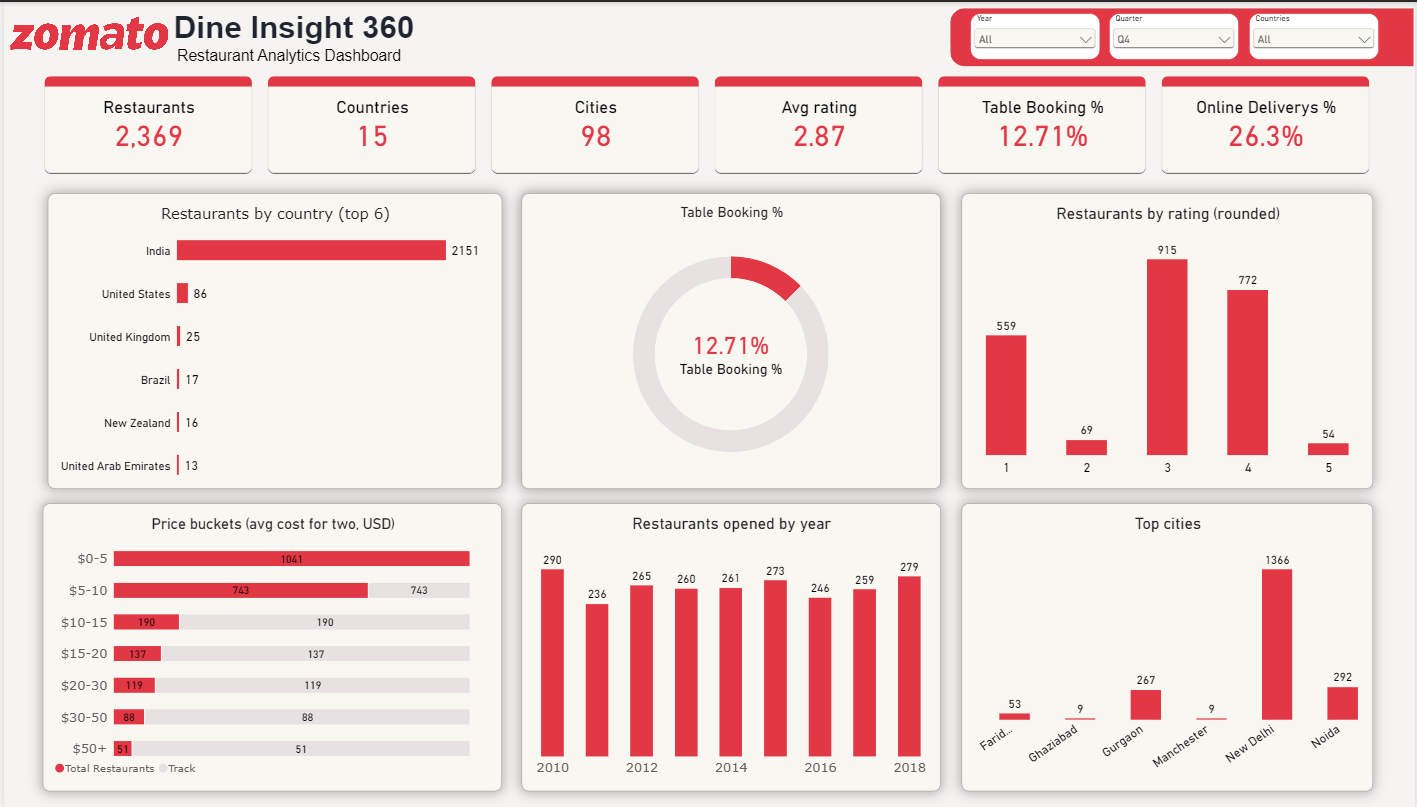

This screenshot's page, from the dashboard's own definition file:
{"tool":"powerbi","page":{"name":"HOME","canvas":[1920,1100],"ordinal":0},"visuals":[{"type":"image","box":[9,6,215,71],"z":0,"group":"g1"},{"type":"shape","box":[1288.2,8.2,631.8,79.1],"z":0},{"type":"group","id":"g1","title":"Group 1","box":[9,6,559,91],"z":1000},{"type":"textbox","box":[218,60,350,37],"z":1000,"group":"g1"},{"type":"textbox","box":[223.7,8.6,343.8,67.7],"z":2000,"group":"g1"},{"type":"clusteredBarChart","title":"Restaurants by country (top 6)","fields":{"Category":["Country.Countryname"],"Y":["CountNonNull(Main.RestaurantID)"]},"box":[59,260,618,402],"z":2000},{"type":"columnChart","title":"Restaurants opened by year","fields":{"Category":["Main.Opening Year"],"Y":["CountNonNull(Main.RestaurantID)"]},"box":[704,682,570,392],"z":3000},{"type":"columnChart","title":"Restaurants by rating (rounded)","fields":{"Category":["Main.Rating"],"Y":["Count(Main.RestaurantID)"]},"box":[1302,260,560,402],"z":4000},{"type":"barChart","title":"Price buckets (avg cost for two, USD)","fields":{"Category":["Main.Price_Bucket"],"Y":["Main.Total Restaurants","Main.Track"]},"box":[52,682,625,392],"z":5000},{"type":"donutChart","title":"Table Booking % ","fields":{"Y":["Main.Table Booking %","Calendar.Table Booking Rest"]},"box":[704,260,570,402],"z":6000},{"type":"columnChart","title":"Top cities","fields":{"Category":["Main.City"],"Y":["Count(Main.RestaurantID)"]},"box":[1302,682,560,392],"z":7000},{"type":"slicer","fields":{"Values":["Calendar.Year"]},"box":[1315.5,14.5,176.5,62.9],"z":8000},{"type":"cardVisual","fields":{"Data":["Main.Total Restaurants","Count(Country.Countryname)","Count(Main.City)","Avg(Main.Rating)","Main.Table Booking %","Main.Online Deliverys %"]},"box":[52,98,1810,136],"z":9000},{"type":"slicer","fields":{"Values":["Calendar.Quarter"]},"box":[1502.7,15.5,176.5,62.9],"z":9001},{"type":"slicer","fields":{"Values":["Country.Countryname"]},"box":[1694.5,14.5,176.5,62.9],"z":9002}]}

Visuals, with their boxes in screenshot pixels (x1, y1, x2, y2), scaled from the page's 1920x1100 canvas onto the 1417x807 screenshot:
image: pyautogui.locateOnScreen(7, 4, 165, 56)
shape: pyautogui.locateOnScreen(951, 6, 1416, 64)
"Group 1" group: pyautogui.locateOnScreen(7, 4, 419, 71)
textbox: pyautogui.locateOnScreen(161, 44, 419, 71)
textbox: pyautogui.locateOnScreen(165, 6, 419, 56)
"Restaurants by country (top 6)" clusteredBarChart: pyautogui.locateOnScreen(44, 191, 500, 486)
"Restaurants opened by year" columnChart: pyautogui.locateOnScreen(520, 500, 940, 788)
"Restaurants by rating (rounded)" columnChart: pyautogui.locateOnScreen(961, 191, 1374, 486)
"Price buckets (avg cost for two, USD)" barChart: pyautogui.locateOnScreen(38, 500, 500, 788)
"Table Booking % " donutChart: pyautogui.locateOnScreen(520, 191, 940, 486)
"Top cities" columnChart: pyautogui.locateOnScreen(961, 500, 1374, 788)
slicer - Calendar.Year: pyautogui.locateOnScreen(971, 11, 1101, 57)
cardVisual - Main.Total Restaurants x Count(Country.Countryname): pyautogui.locateOnScreen(38, 72, 1374, 172)
slicer - Calendar.Quarter: pyautogui.locateOnScreen(1109, 11, 1239, 58)
slicer - Country.Countryname: pyautogui.locateOnScreen(1251, 11, 1381, 57)
